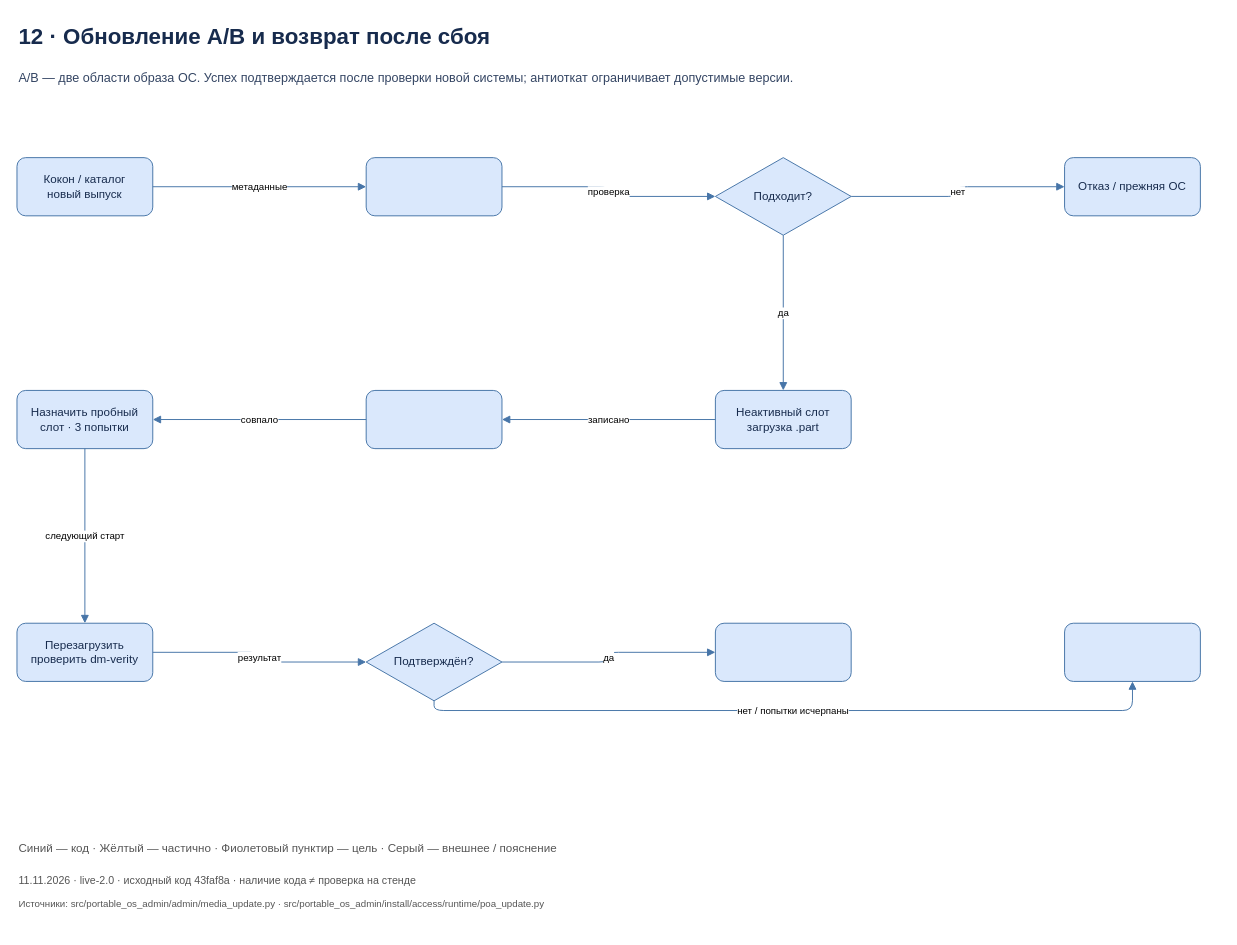
The diagram is 1237 pixels wide and 945 high, and some of its shapes have lost their labels. The shapes that lost their labels are listed below. From the top down, each one's centre as x and y in pixels, then its label:
At point (433, 186): "Подпись, версия, семейство, разметка".
At point (433, 419): "Проверить хеши всех файлов".
At point (782, 651): "Закрепить новый рабочий слот".
At point (1132, 651): "Вернуть прежний допустимый слот".
